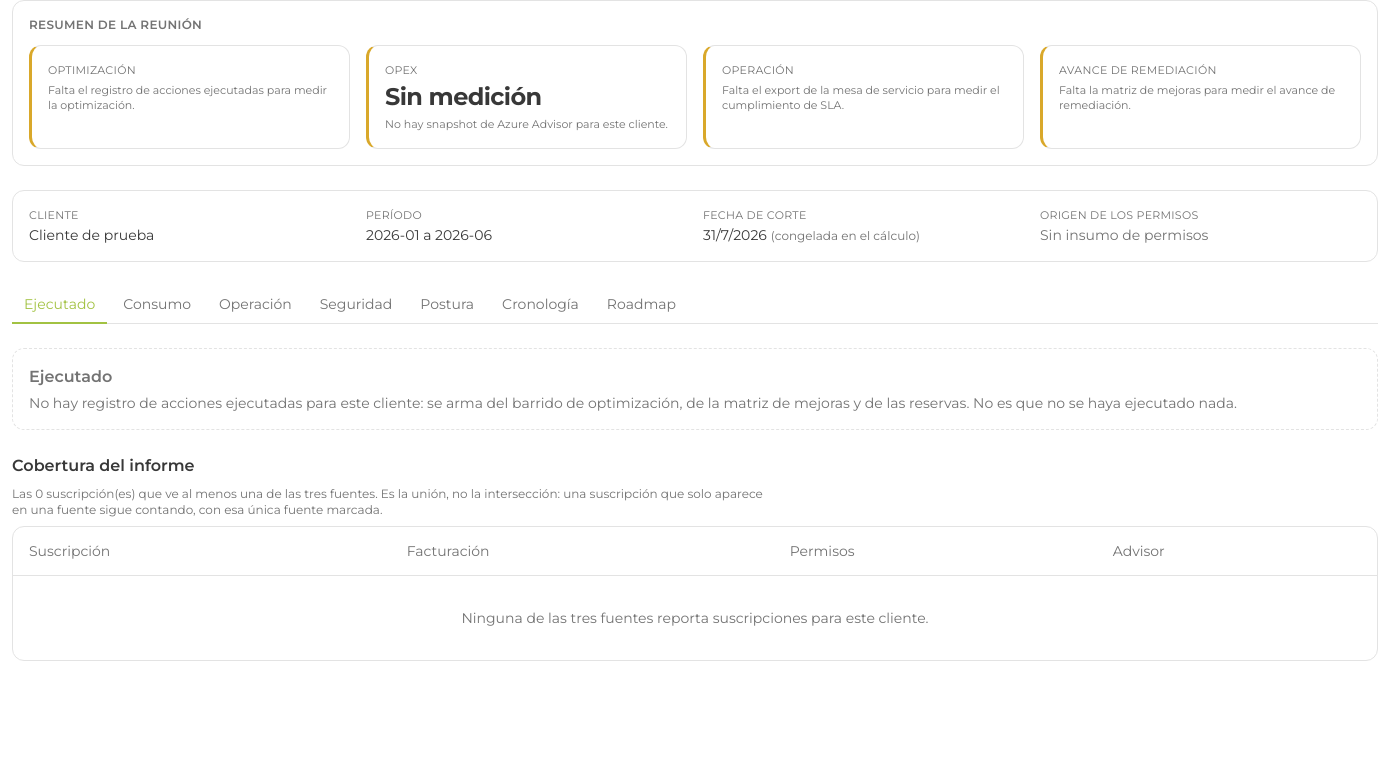
InformeVista › cada bloque ausente explica por que lo esta
Check: the text "no es que no se haya ejecutado nada" is shown, box [29,394,1237,412]
Click the button "Consumo". click: click(157, 305)
box: [111,286,203,324]
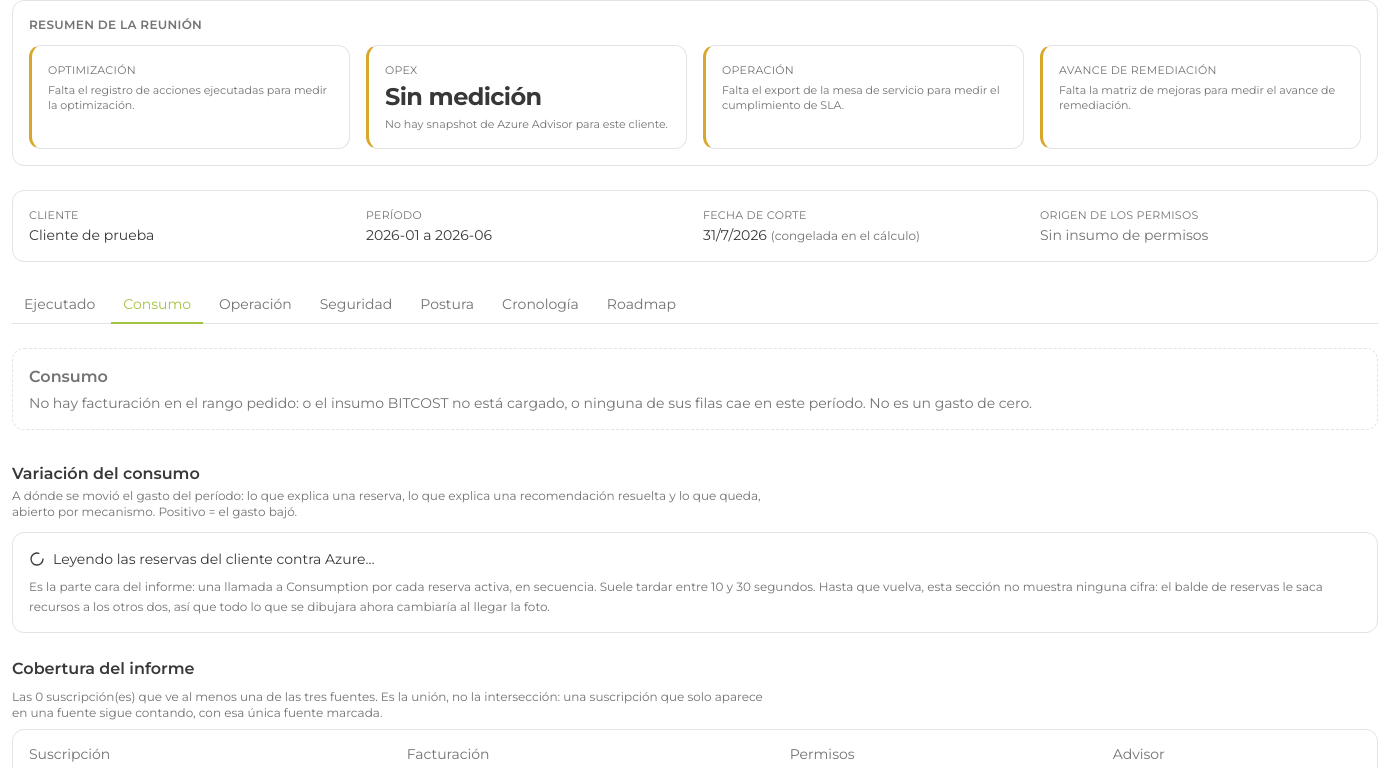
Check: the text "no es un gasto de cero" is shown, box [29,394,1032,412]
Click the button "Operación". click: click(255, 305)
box: [207,286,304,324]
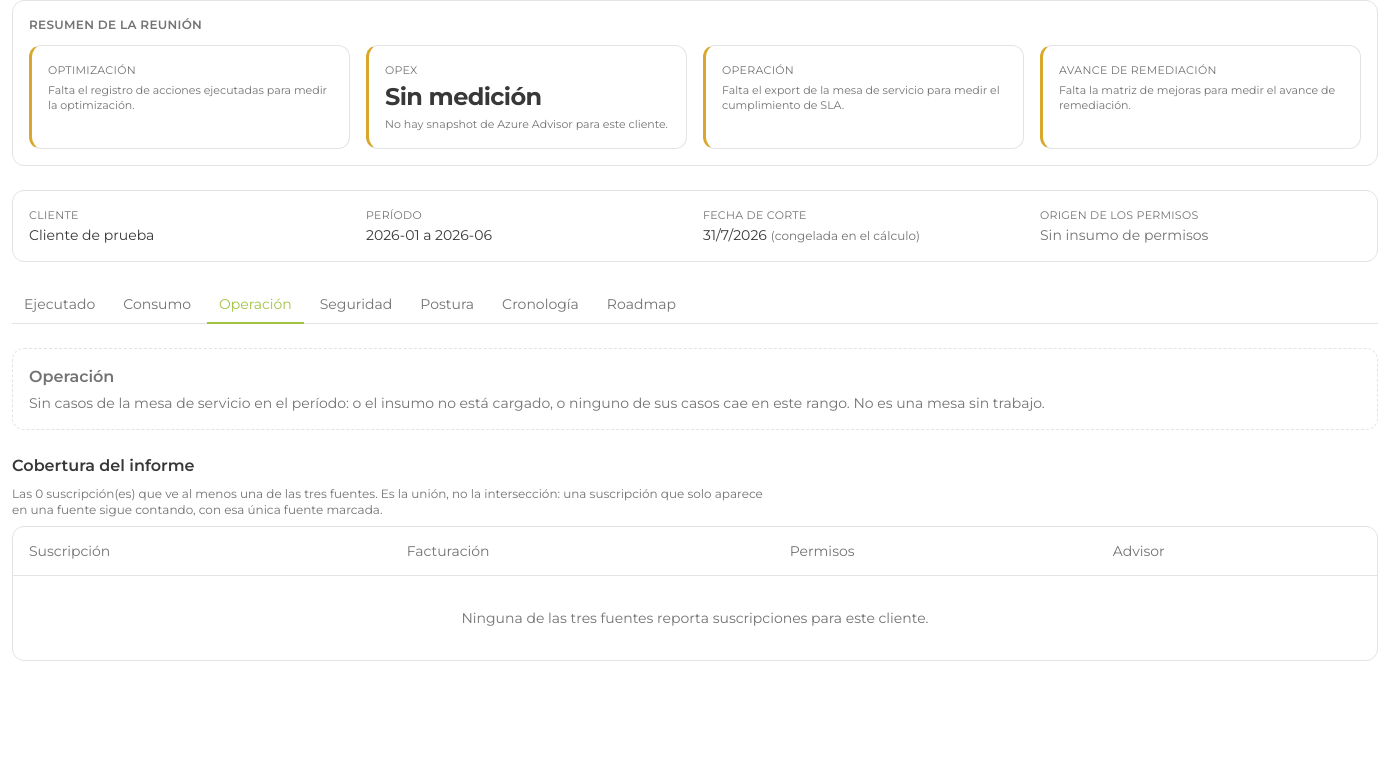
Check: the text "no es una mesa sin trabajo" is shown, box [29,394,1045,412]
Click the button "Seguridad". click: click(356, 305)
box: [308,286,404,324]
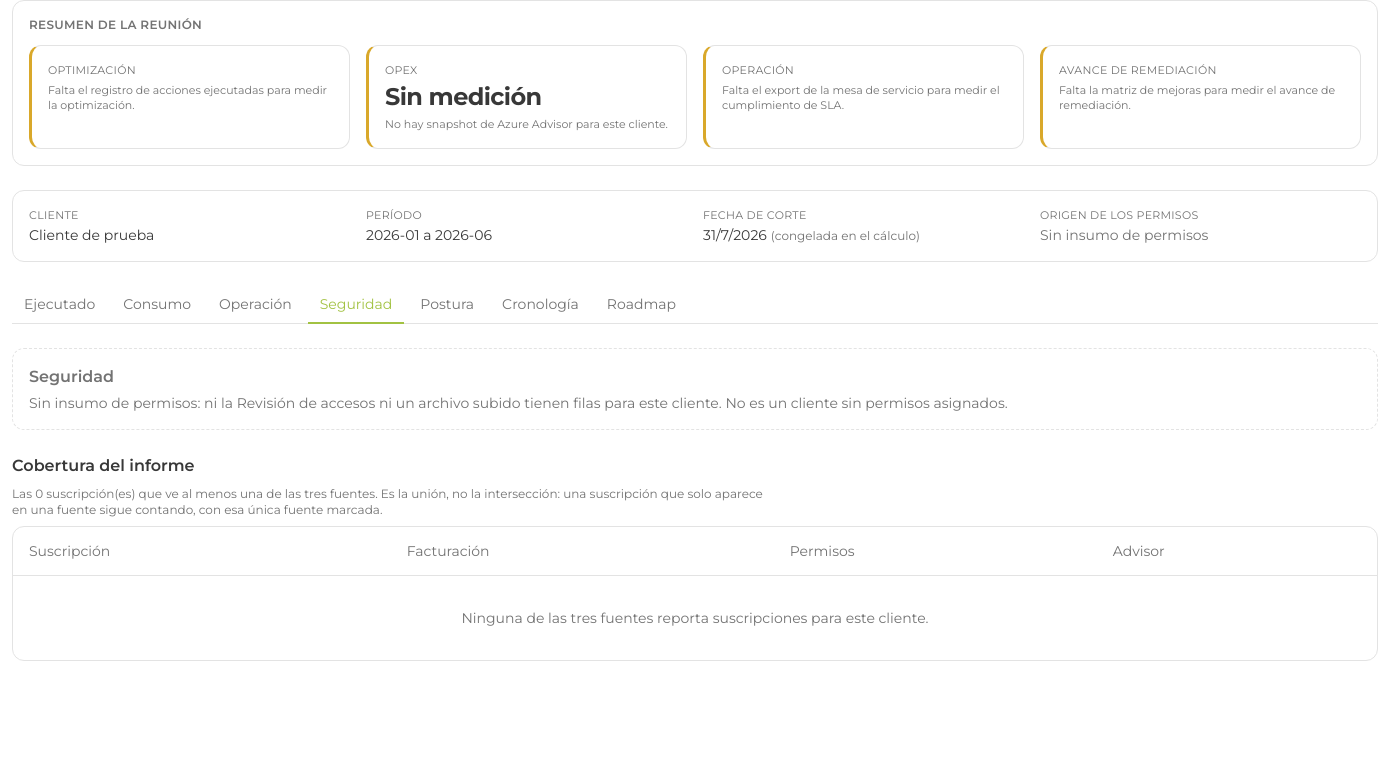
Check: the text "no es un cliente sin permisos asignados" is shown, box [29,394,1008,412]
Click the button "Postura". click: click(447, 305)
box: [408,286,486,324]
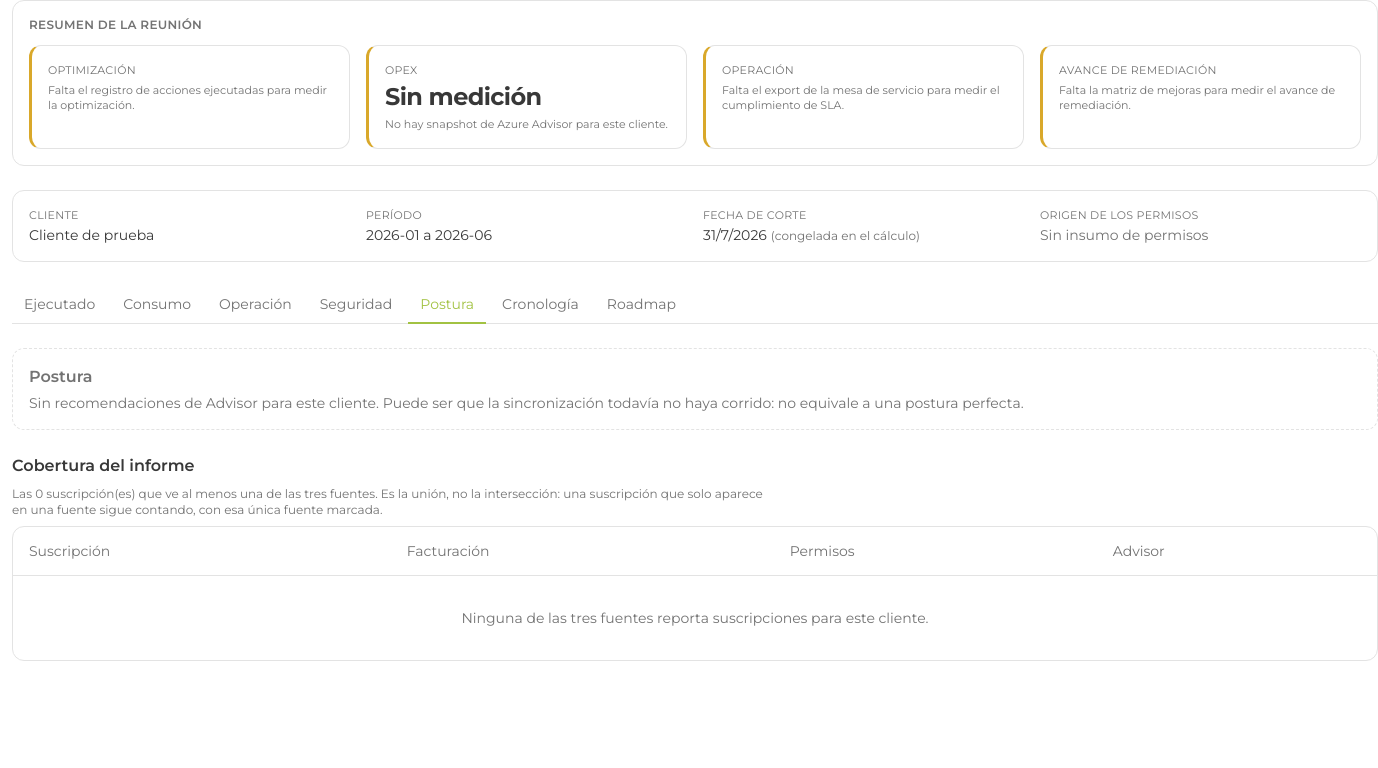
Check: the text "no equivale a una postura perfecta" is shown, box [29,394,1024,412]
Click the button "Roadmap". click: click(641, 305)
box: [595,286,688,324]
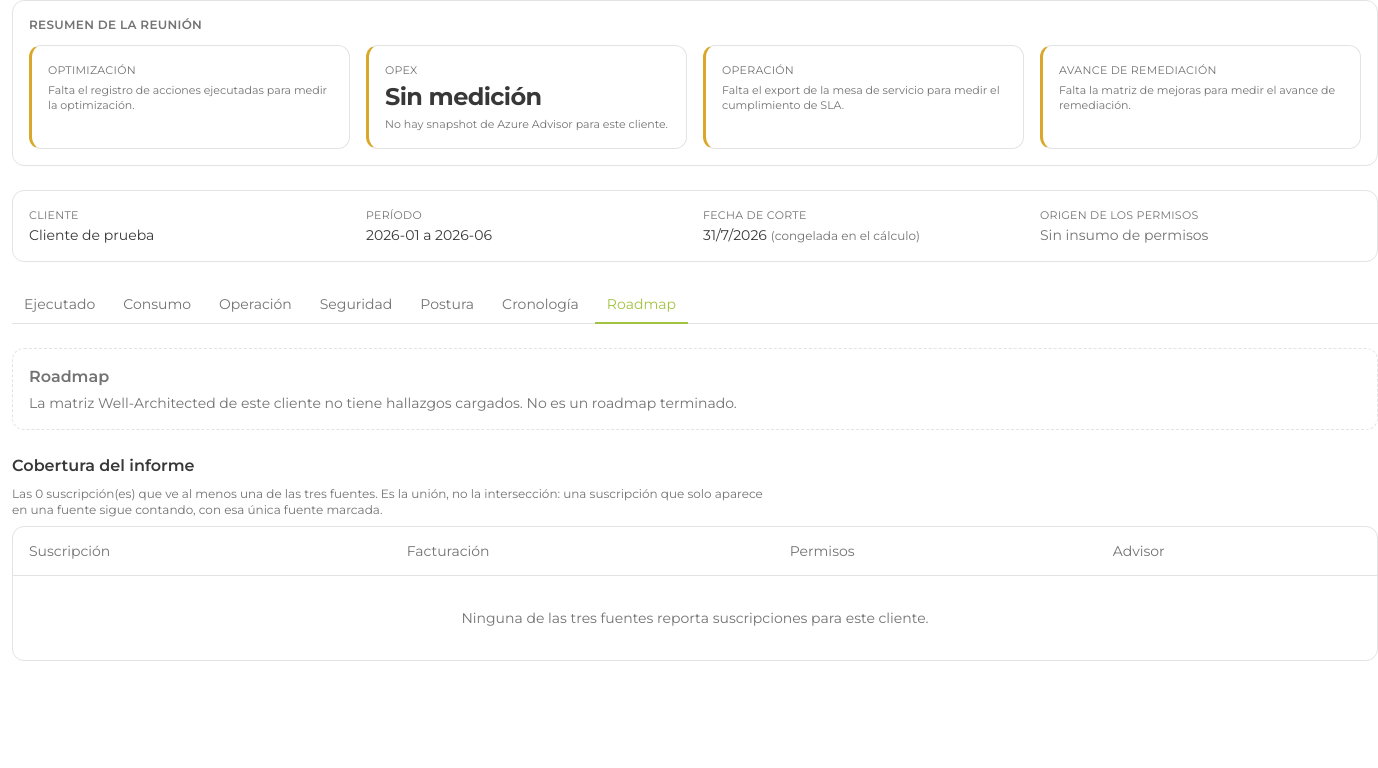
Check: the text "no es un roadmap terminado" is shown, box [29,394,737,412]
